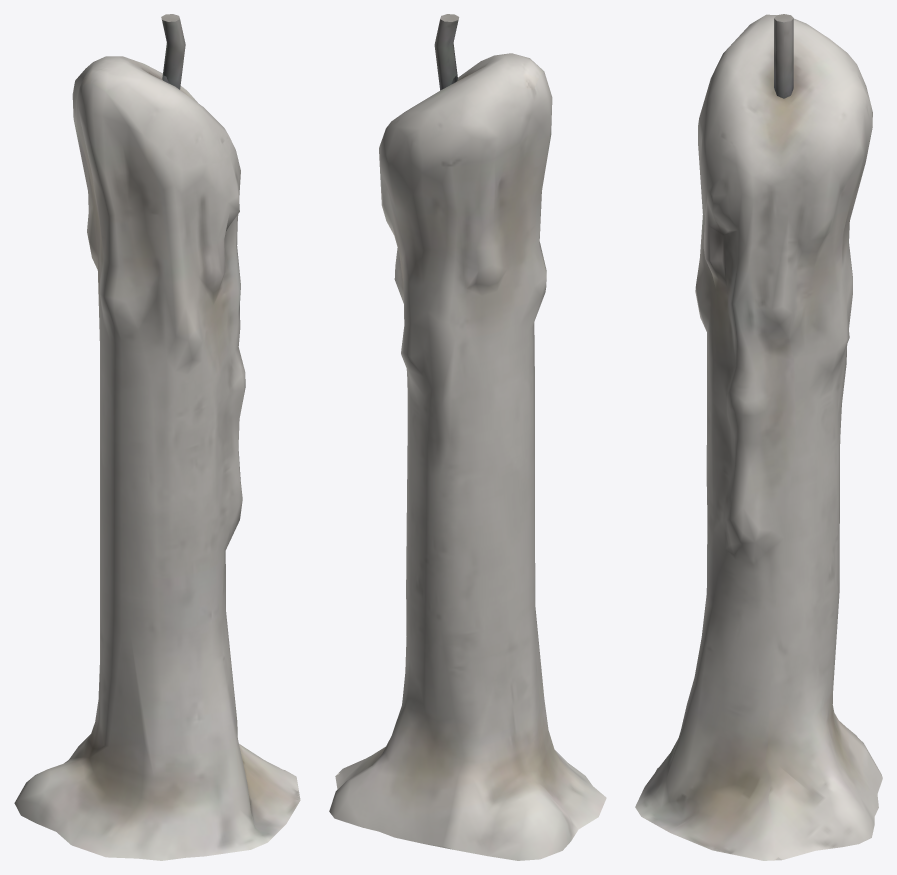
The picture shows the model from 3 angles, left to right: view 1: azimuth 30°, elevation 25°; view 2: azimuth 150°, elevation 25°; view 3: azimuth 270°, elevation 25°; orthographic projection.
Visible parts, largest first — view 1: SM_Candle_01_v2_LOD0; view 2: SM_Candle_01_v2_LOD0; view 3: SM_Candle_01_v2_LOD0.
Part boxes in pixels (left/top/right/bottom): SM_Candle_01_v2_LOD0: left=14, top=14, right=300, bottom=860; SM_Candle_01_v2_LOD0: left=329, top=14, right=606, bottom=860; SM_Candle_01_v2_LOD0: left=635, top=14, right=882, bottom=860.
Size of the model in its own units: 0.1035 by 0.3129 by 0.0894.
Materials: 1 (1 with a texture image).
